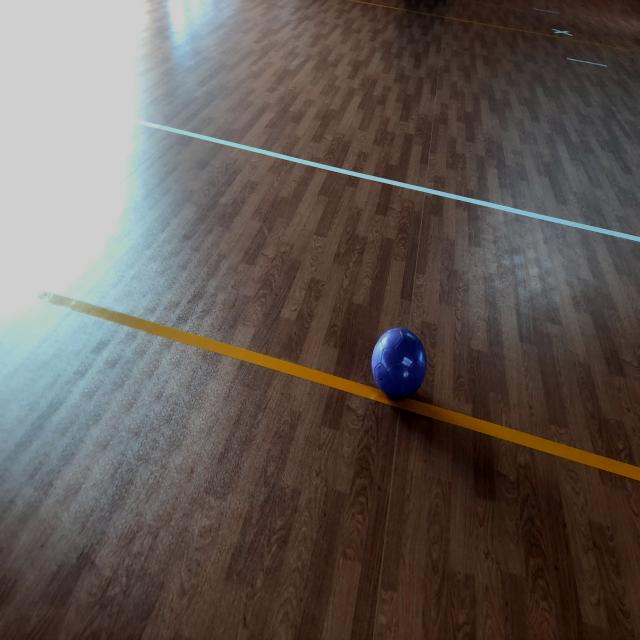purple_ball: (372, 328, 426, 402)
